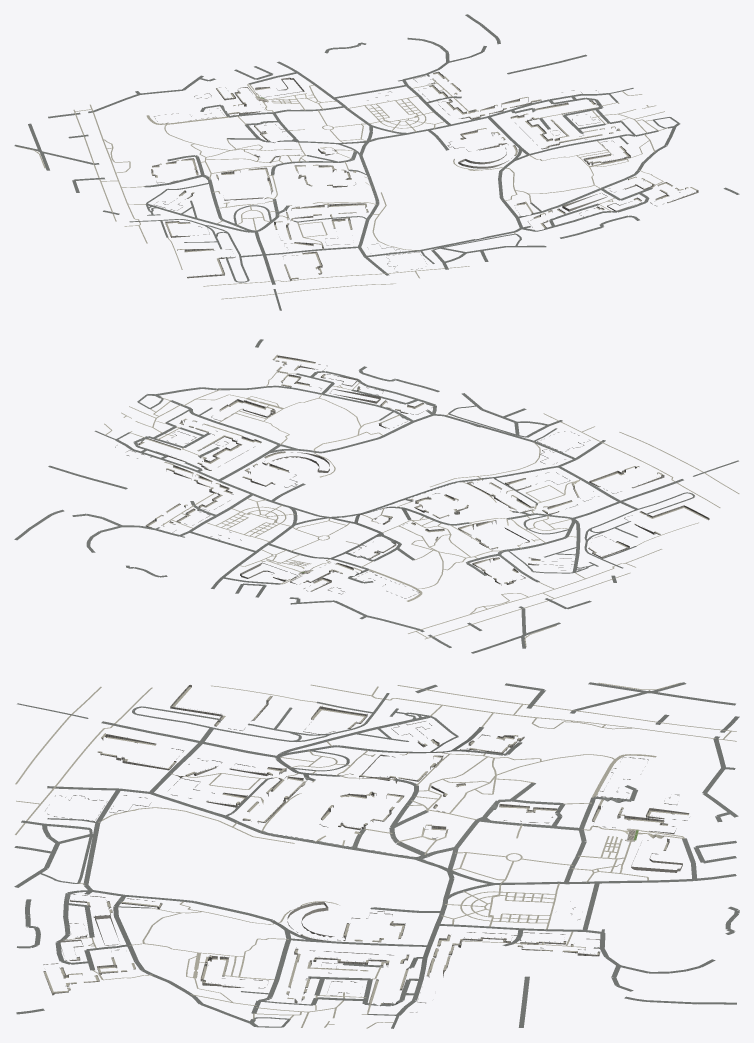
3 views of the same model, one above another, from view 1: azimuth 30°, elevation 25°; view 2: azimuth 150°, elevation 25°; view 3: azimuth 270°, elevation 25° (orthographic). The views are drawn at different scales.
Parts seen in each view (by area): view 1: ku-asphalt-overlay, ku-paving-overlay, ku-stonebank, ku-paving, site-concrete; view 2: ku-asphalt-overlay, ku-paving-overlay, ku-stonebank, ku-paving, site-concrete; view 3: ku-asphalt-overlay, ku-paving-overlay, ku-stonebank, ku-paving, site-concrete, site.
Boxes of the visible parts, x1=… form: ku-asphalt-overlay: x1=14, y1=14, x2=739, y2=310; ku-paving-overlay: x1=16, y1=78, x2=667, y2=299; ku-stonebank: x1=151, y1=71, x2=698, y2=281; ku-paving: x1=151, y1=72, x2=697, y2=278; site-concrete: x1=154, y1=76, x2=680, y2=271; ku-asphalt-overlay: x1=14, y1=339, x2=738, y2=653; ku-paving-overlay: x1=104, y1=372, x2=739, y2=647; ku-stonebank: x1=138, y1=355, x2=709, y2=591; ku-paving: x1=140, y1=355, x2=707, y2=590; site-concrete: x1=115, y1=364, x2=632, y2=598; ku-asphalt-overlay: x1=14, y1=682, x2=739, y2=1028; ku-paving-overlay: x1=15, y1=682, x2=736, y2=1028; ku-stonebank: x1=43, y1=685, x2=688, y2=1006; ku-paving: x1=44, y1=687, x2=688, y2=1004; site-concrete: x1=43, y1=719, x2=689, y2=1012; site: x1=43, y1=685, x2=689, y2=1003.
Bounding box in the file's own units: 840 × 22.45 × 719.
Materials: 14 (4 with a texture image).
